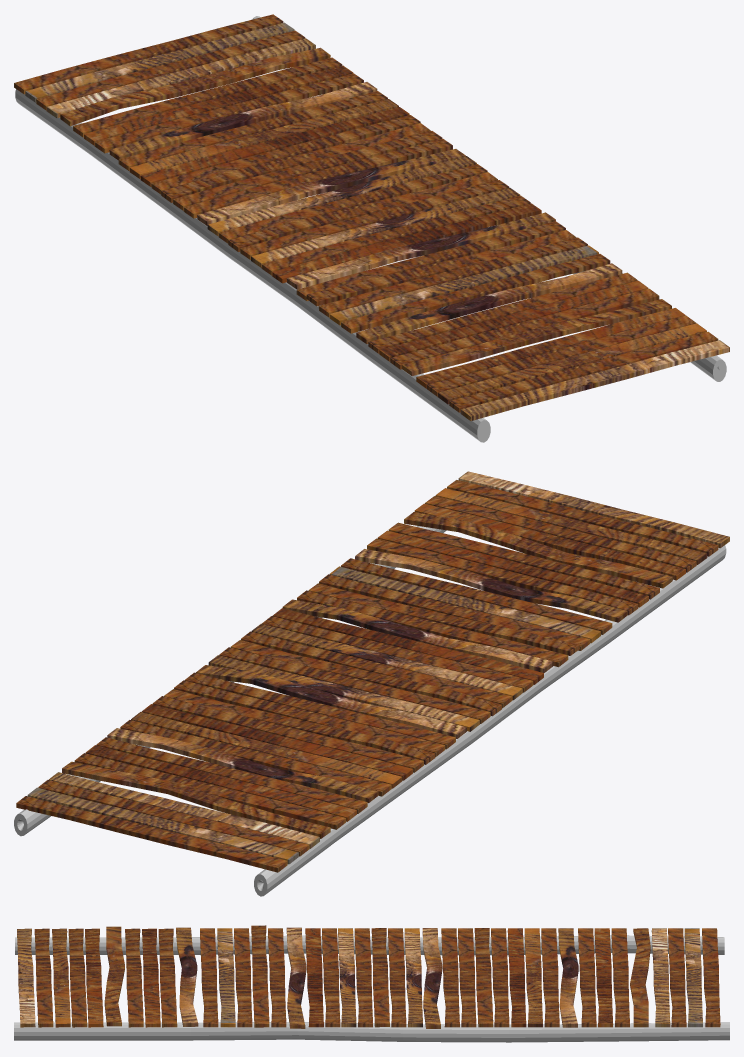
File: Pont.FBX
3 views of the same model, one above another, from view 1: azimuth 30°, elevation 25°; view 2: azimuth 150°, elevation 25°; view 3: azimuth 270°, elevation 25° (orthographic). The views are drawn at different scales.
Visible parts, largest first — view 1: Cylinder006, Box062, Box005, Box057, Box061, Box052, Box015, Box026, Box012, Box054, Box032, Box053 (+29 smaller); view 2: Cylinder006, Box017, Box061, Box057, Box005, Box012, Box015, Box026, Box062, Box054, Box060, Box027 (+30 smaller); view 3: Cylinder005, Cylinder006, Box015, Box057, Box049, Box026, Box061, Box005, Box012, Box033, Box051, Box028 (+30 smaller).
Boxes of the visible parts, x1=… form: Cylinder006: x1=15, y1=89, x2=490, y2=442; Box062: x1=460, y1=340, x2=729, y2=420; Box005: x1=60, y1=47, x2=330, y2=126; Box057: x1=402, y1=299, x2=671, y2=375; Box061: x1=356, y1=263, x2=622, y2=343; Box052: x1=341, y1=253, x2=610, y2=333; Box015: x1=286, y1=212, x2=555, y2=289; Box026: x1=197, y1=149, x2=465, y2=225; Box012: x1=109, y1=82, x2=377, y2=160; Box054: x1=449, y1=331, x2=718, y2=412; Box032: x1=94, y1=73, x2=363, y2=153; Box053: x1=437, y1=323, x2=706, y2=404; Cylinder006: x1=254, y1=545, x2=726, y2=896; Box017: x1=16, y1=796, x2=287, y2=872; Box061: x1=355, y1=549, x2=627, y2=622; Box057: x1=404, y1=512, x2=672, y2=588; Box005: x1=62, y1=761, x2=330, y2=838; Box012: x1=107, y1=728, x2=378, y2=803; Box015: x1=282, y1=599, x2=553, y2=672; Box026: x1=196, y1=665, x2=466, y2=738; Box062: x1=458, y1=471, x2=729, y2=548; Box054: x1=447, y1=480, x2=718, y2=556; Box060: x1=367, y1=538, x2=638, y2=615; Box027: x1=27, y1=787, x2=298, y2=864; Cylinder005: x1=14, y1=1022, x2=729, y2=1042; Cylinder006: x1=15, y1=935, x2=724, y2=955; Box015: x1=286, y1=927, x2=306, y2=1028; Box057: x1=104, y1=926, x2=124, y2=1026; Box049: x1=251, y1=925, x2=269, y2=1027; Box026: x1=422, y1=928, x2=442, y2=1028; Box061: x1=176, y1=927, x2=198, y2=1026; Box005: x1=630, y1=928, x2=650, y2=1027; Box012: x1=558, y1=928, x2=578, y2=1027; Box033: x1=541, y1=928, x2=559, y2=1027; Box051: x1=217, y1=928, x2=235, y2=1027; Box028: x1=668, y1=928, x2=686, y2=1027.
Bounding box in the file's own units: 145 × 18.22 × 442.
